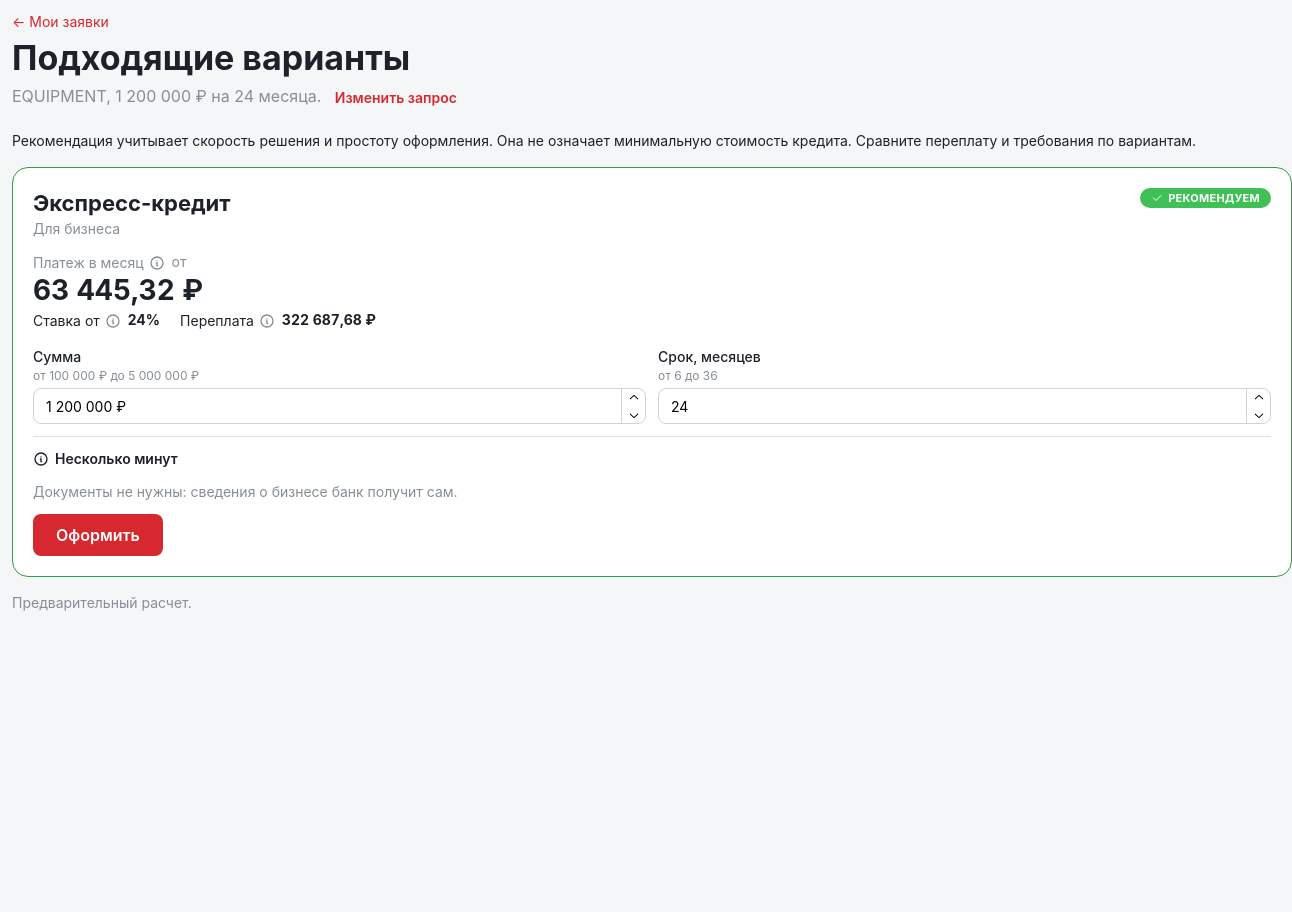
Scenario: explains recommendation and blocks calculation and applying for amounts outside the product step
Expected: the text "Рекомендация учитывает скорость решения" is shown, [12,132,1196,149]
Replace the text in the field labelled "Сумма" with "1200001". click: point(340, 406)
box: [33,388,646,424]
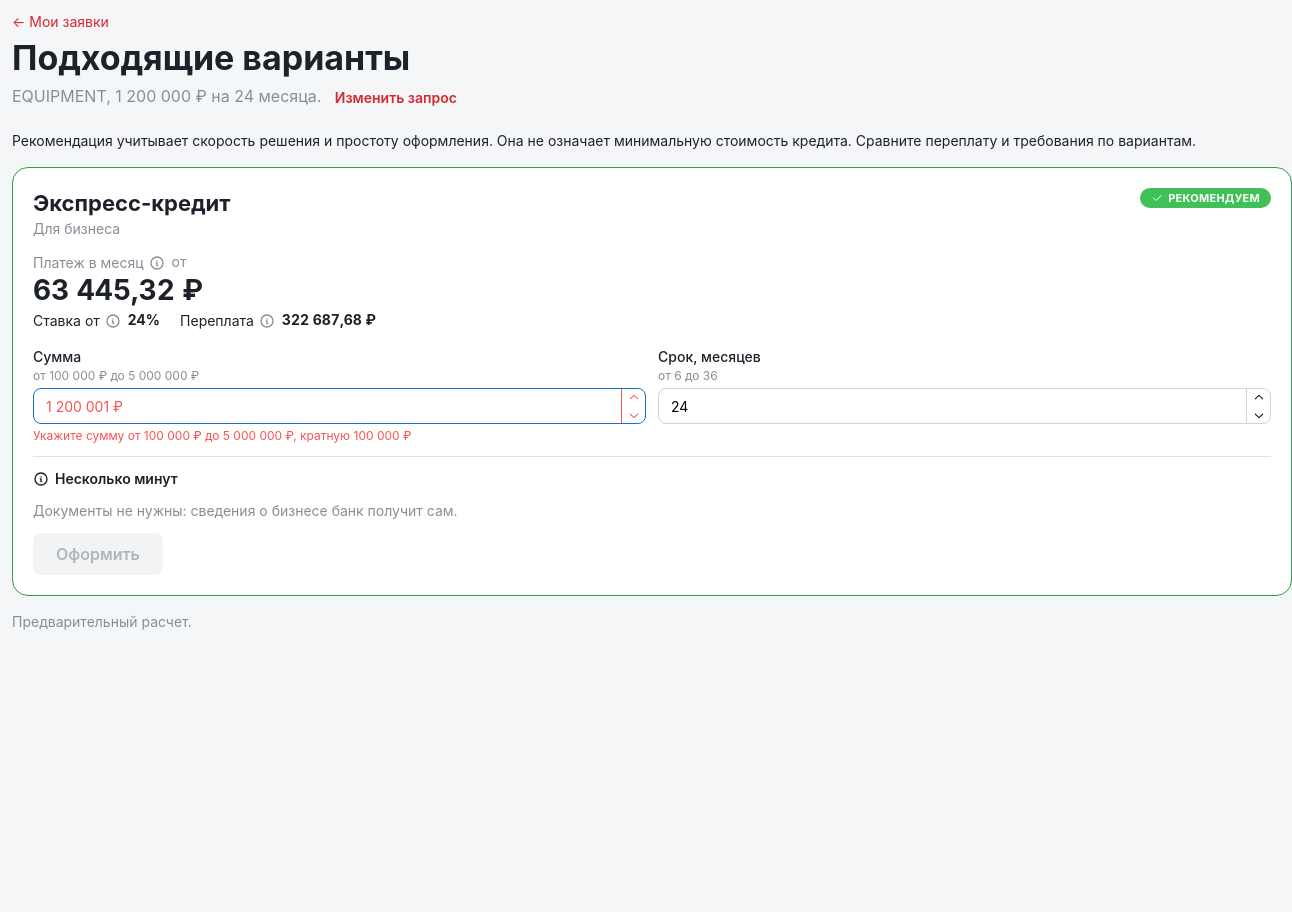
Expected: the button "Оформить" is disabled, [33,533,163,575]
Expected: the text "Укажите сумму от 100 000 ₽ до 5 000 000 ₽, кратную 100 000 ₽" is shown, [33,428,412,443]
Replace the text in the field labelled "Сумма" with "1300000". click: point(340, 406)
box: [33,388,646,424]
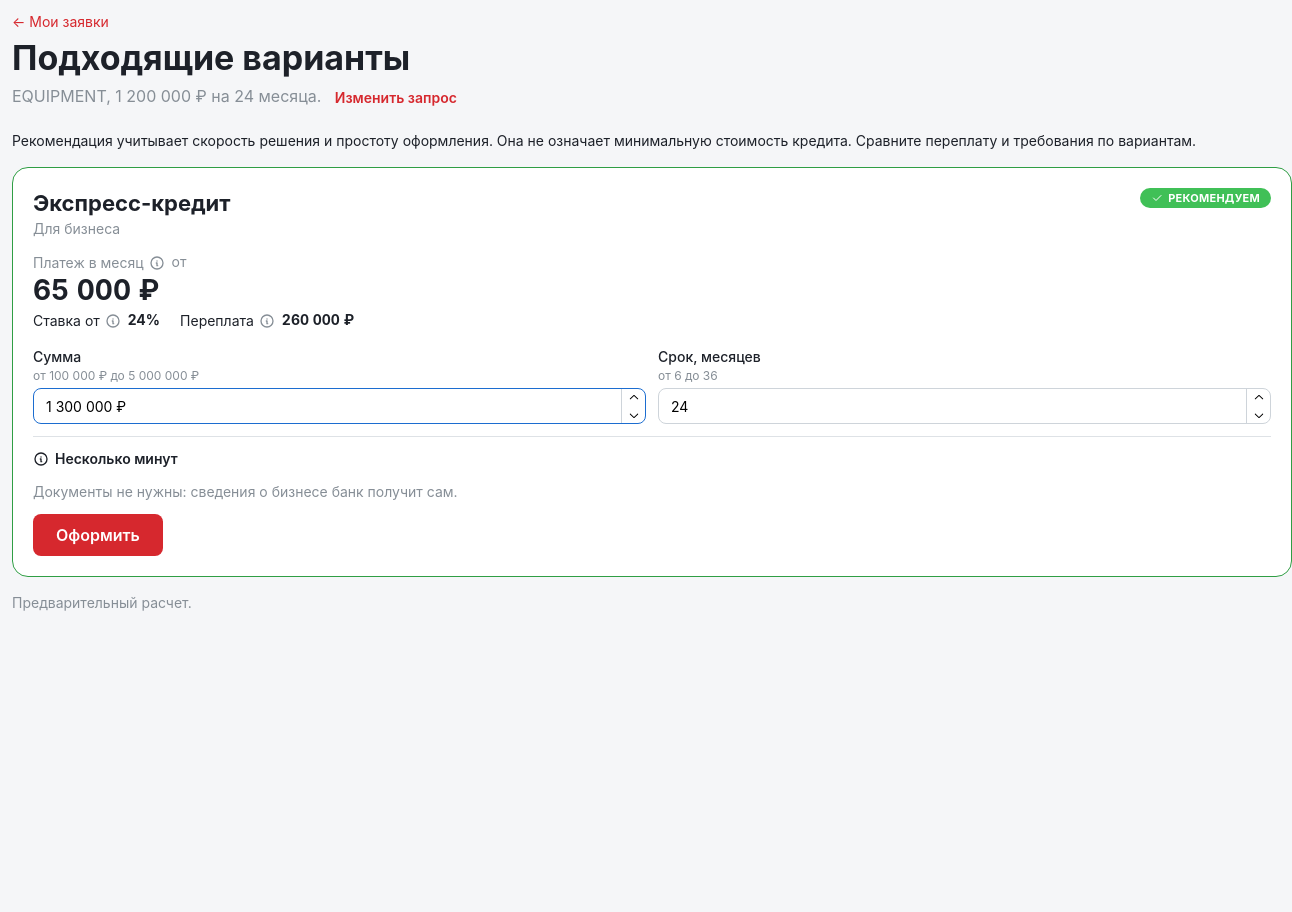
Expected: the button "Оформить" is enabled, [33,514,163,556]
